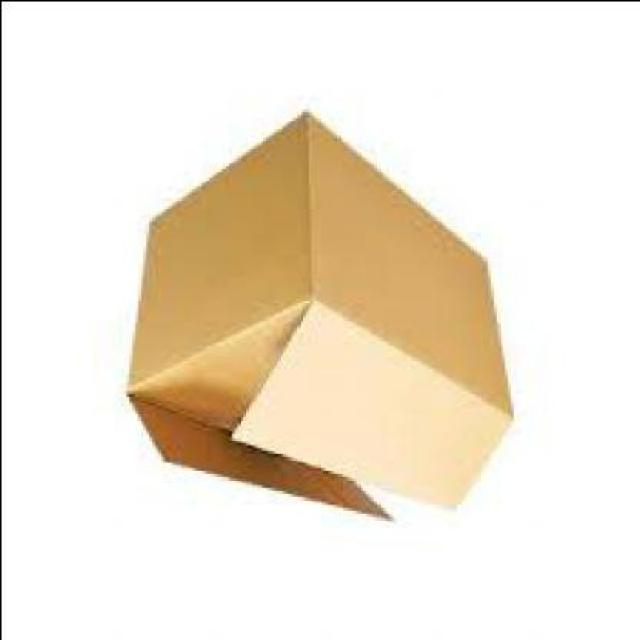CARDBOARD: (119, 114, 510, 520)
